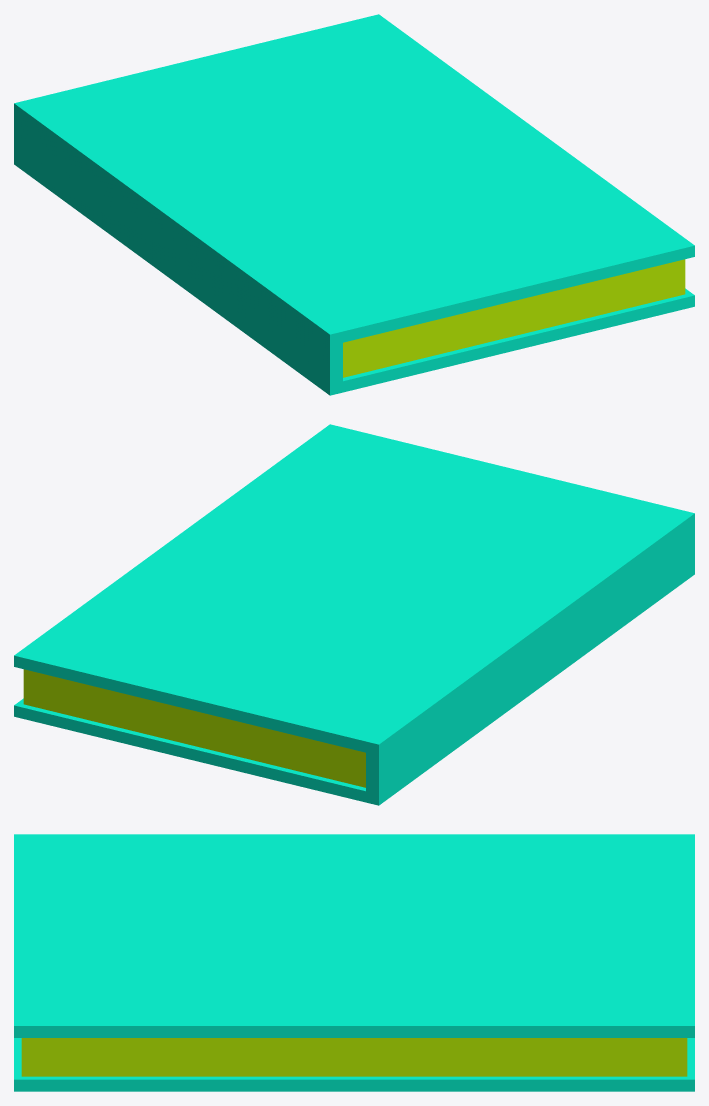
The model's file is SM_Book.fbx.
The picture shows the model from 3 angles, top to bottom: view 1: azimuth 30°, elevation 25°; view 2: azimuth 150°, elevation 25°; view 3: azimuth 270°, elevation 25°; orthographic projection. The views are drawn at different scales.
Visible parts, largest first — view 1: SM_Book; view 2: SM_Book; view 3: SM_Book.
Boxes of the visible parts, x1,y1,x2,y2 form: SM_Book: (14,14,694,395); SM_Book: (14,424,694,805); SM_Book: (14,834,694,1091).
Size of the model in its own units: 30 by 4.8 by 45.
